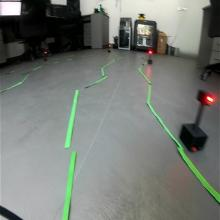red: (196, 88, 214, 106)
